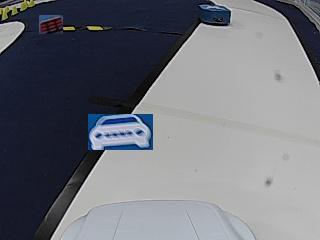prop: (199, 4, 230, 25)
